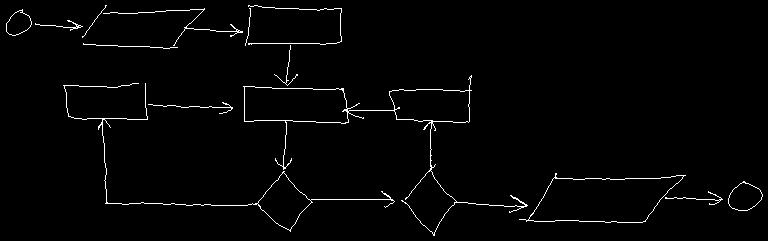arrow: (98, 118, 256, 205), (311, 191, 394, 207), (454, 195, 527, 212), (148, 102, 232, 113), (274, 45, 297, 85), (342, 103, 399, 118), (275, 121, 291, 169), (665, 191, 722, 204), (184, 24, 242, 36), (423, 120, 435, 170), (35, 20, 82, 30)
connection: (728, 181, 762, 210), (6, 9, 31, 35)
data: (519, 173, 685, 222), (82, 5, 204, 48)
decision: (401, 164, 456, 235), (254, 171, 312, 231)
process: (243, 86, 348, 123), (389, 75, 471, 122), (245, 5, 341, 45), (63, 83, 147, 119)
